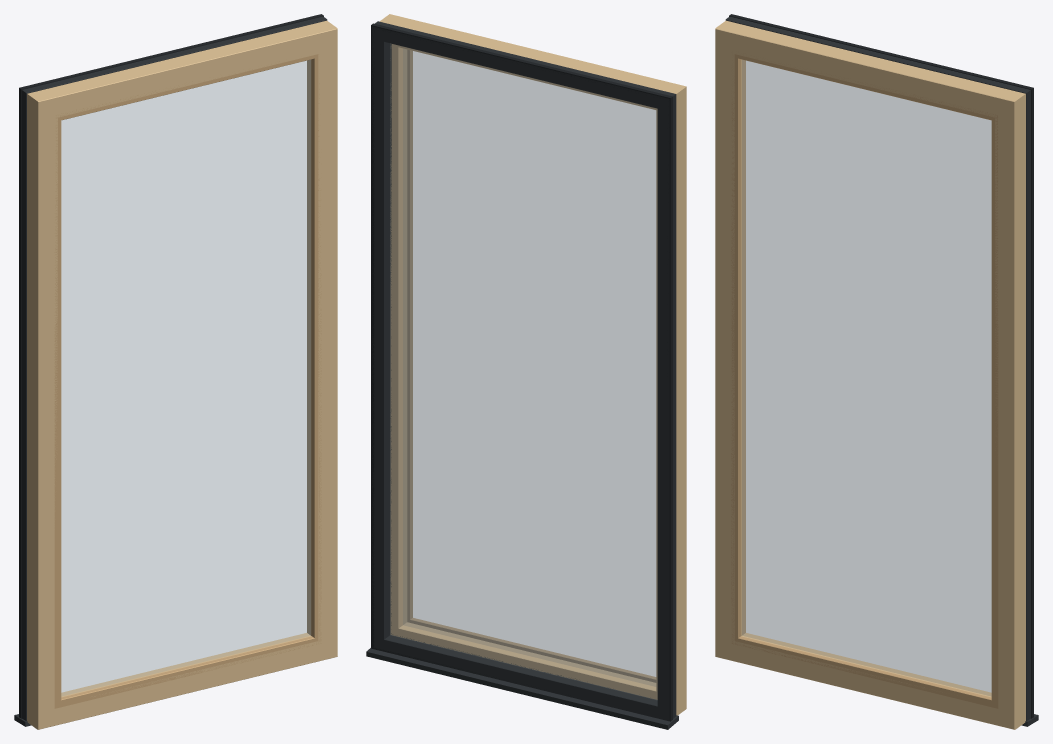
The model's file is fixed.glb.
3 renders of one model, left to right at view 1: azimuth 30°, elevation 25°; view 2: azimuth 150°, elevation 25°; view 3: azimuth 330°, elevation 25°, orthographic.
Visible parts, largest first — view 1: glass_igu, frame_liner_int, frame_stop_int, frame_clad_ext, frame_clad_nose; view 2: glass_igu, frame_clad_ext, frame_liner_int, frame_clad_nose, frame_stop_int, sill_nose; view 3: glass_igu, frame_liner_int, frame_stop_int, frame_clad_ext, frame_clad_nose.
Part boxes in pixels (left/top/right/bottom): glass_igu: left=61, top=60, right=310, bottom=695; frame_liner_int: left=27, top=20, right=337, bottom=729; frame_stop_int: left=54, top=54, right=321, bottom=708; frame_clad_ext: left=22, top=16, right=327, bottom=720; frame_clad_nose: left=19, top=14, right=323, bottom=718; glass_igu: left=390, top=43, right=657, bottom=699; frame_clad_ext: left=372, top=21, right=676, bottom=721; frame_liner_int: left=379, top=14, right=686, bottom=715; frame_clad_nose: left=371, top=23, right=672, bottom=721; frame_stop_int: left=407, top=50, right=656, bottom=682; sill_nose: left=366, top=648, right=678, bottom=729; glass_igu: left=742, top=60, right=991, bottom=695; frame_liner_int: left=715, top=20, right=1025, bottom=729; frame_stop_int: left=731, top=53, right=998, bottom=708; frame_clad_ext: left=725, top=16, right=1030, bottom=720; frame_clad_nose: left=729, top=14, right=1033, bottom=718.
Size of the model in its own units: 0.912 by 1.82 by 0.1124.
